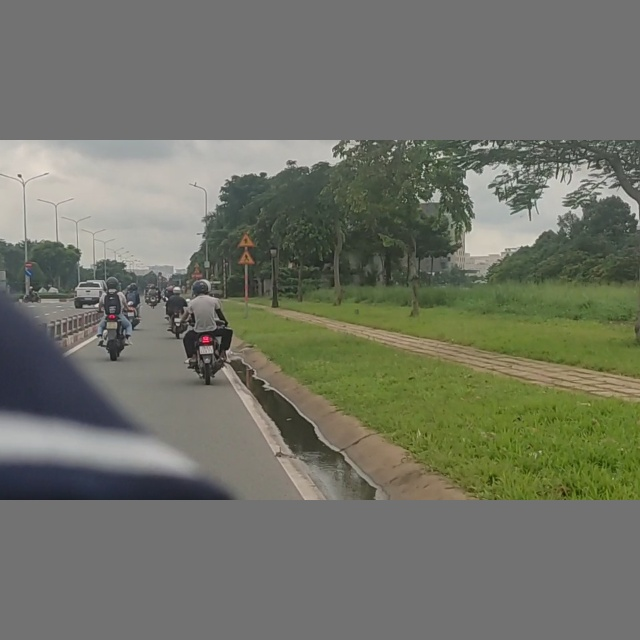P.102: (25, 261, 33, 268)
R.302a: (25, 269, 33, 277)
W.207: (237, 233, 255, 247)
W.224: (237, 249, 255, 265)
